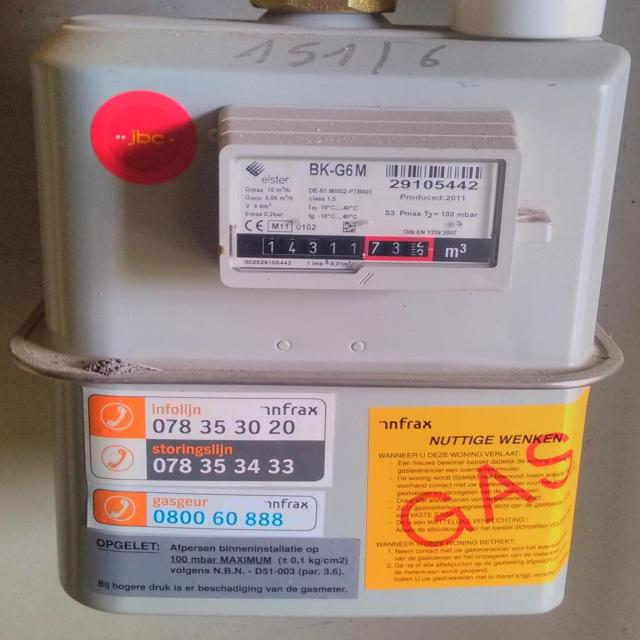gaz_meter: (227, 156, 506, 274)
indication: (237, 234, 437, 261)
